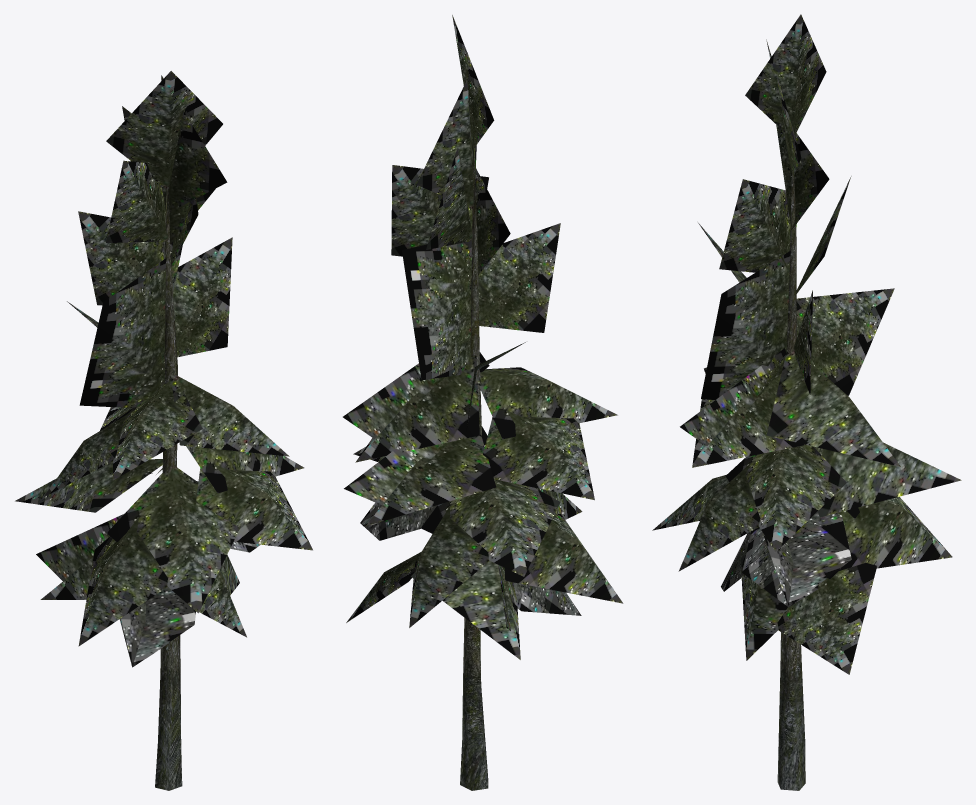
Rendered from treepineforestsnowl05-transformed.glb.
3 views of the same model, side by side, from view 1: azimuth 30°, elevation 25°; view 2: azimuth 150°, elevation 25°; view 3: azimuth 270°, elevation 25° (orthographic). The views are drawn at different scales.
Visible parts, largest first — view 1: default; view 2: default; view 3: default.
Boxes of the visible parts, box(x1,y1,x2,y2) form: default: box(15, 71, 312, 790); default: box(343, 15, 623, 790); default: box(652, 14, 961, 790).
Size of the model in its own units: 5.35 by 15.54 by 5.59.
2 materials, 2 textured.
